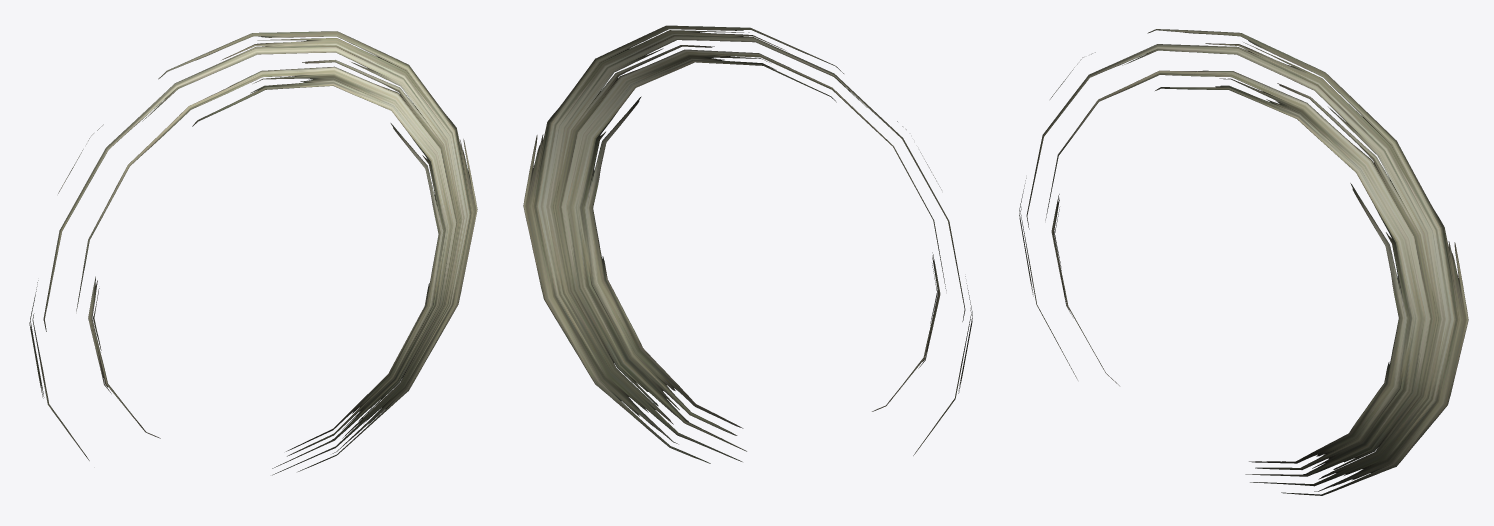
File: shock01.FBX
3 views of the same model, side by side, from view 1: azimuth 30°, elevation 25°; view 2: azimuth 150°, elevation 25°; view 3: azimuth 330°, elevation 25° (orthographic).
Parts seen in each view (by area): view 1: Cylinder01; view 2: Cylinder01; view 3: Cylinder01.
Boxes of the visible parts, left/top/right/bottom form: Cylinder01: left=29, top=31, right=477, bottom=475; Cylinder01: left=523, top=25, right=972, bottom=463; Cylinder01: left=1019, top=29, right=1468, bottom=495.
Bounding box in the file's own units: 9.93 × 9.93 × 0.7759.
1 material, 1 textured.
